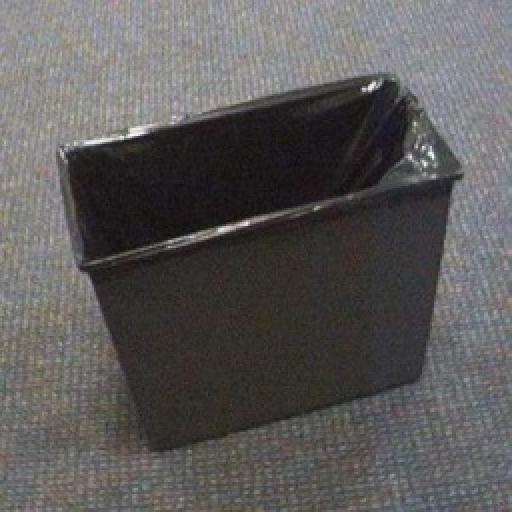trash-can: (56, 47, 472, 460)
